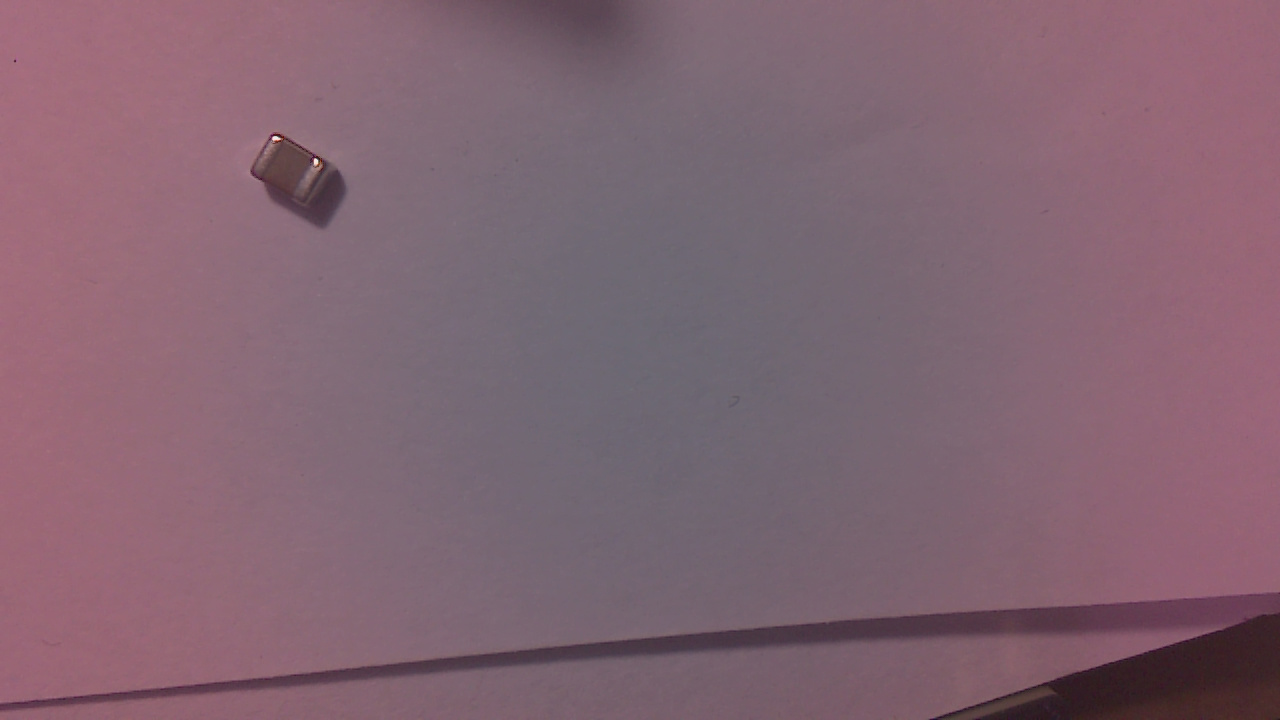Condensator: (253, 136, 338, 214)
